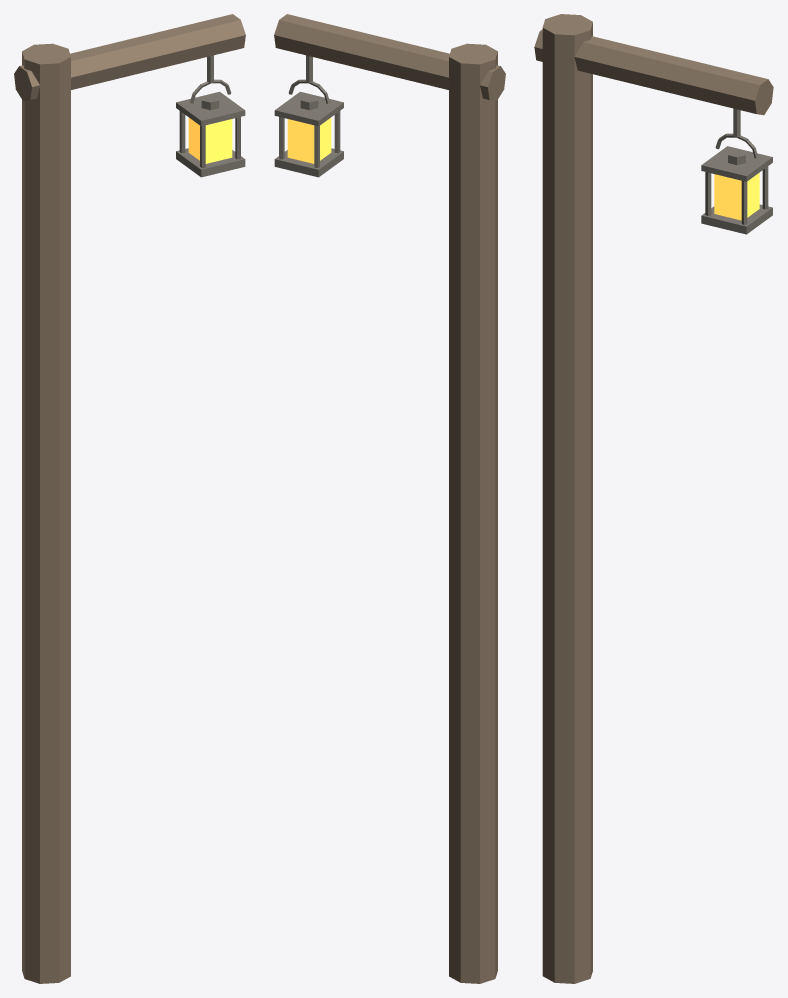
The model's file is street_lamp.glb.
The picture shows the model from 3 angles, left to right: view 1: azimuth 30°, elevation 25°; view 2: azimuth 150°, elevation 25°; view 3: azimuth 330°, elevation 25°; orthographic projection. The views are drawn at different scales.
Bounding box in the file's own units: 0.73 × 3 × 0.15.
